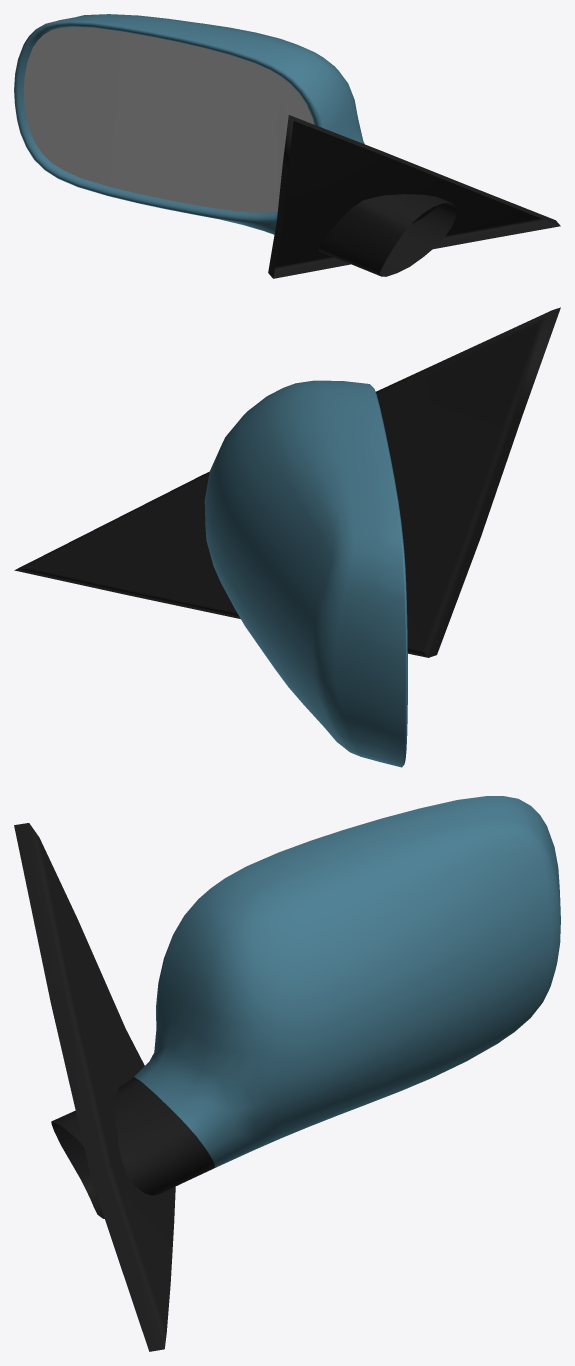
3 renders of one model, top to bottom at view 1: azimuth 30°, elevation 25°; view 2: azimuth 150°, elevation 25°; view 3: azimuth 270°, elevation 25°, orthographic. The views are drawn at different scales.
Parts seen in each view (by area): view 1: Y175_18_261I_L_Y175_18_261I_L_3_DTaSI, Y175_18_261I_L_Y175_18_261I_L_2_D, Y175_18_261I_L_1_DaS_Y175_18_261I_L; view 2: Y175_18_261I_L_1_DaS_Y175_18_261I_L, Y175_18_261I_L_Y175_18_261I_L_2_D; view 3: Y175_18_261I_L_1_DaS_Y175_18_261I_L, Y175_18_261I_L_Y175_18_261I_L_2_D.
Boxes of the visible parts, bbox=[...] form: Y175_18_261I_L_Y175_18_261I_L_3_DTaSI: bbox=[23, 26, 313, 212]; Y175_18_261I_L_Y175_18_261I_L_2_D: bbox=[268, 115, 560, 278]; Y175_18_261I_L_1_DaS_Y175_18_261I_L: bbox=[14, 14, 364, 234]; Y175_18_261I_L_1_DaS_Y175_18_261I_L: bbox=[204, 380, 407, 767]; Y175_18_261I_L_Y175_18_261I_L_2_D: bbox=[14, 307, 560, 657]; Y175_18_261I_L_1_DaS_Y175_18_261I_L: bbox=[134, 796, 560, 1167]; Y175_18_261I_L_Y175_18_261I_L_2_D: bbox=[14, 823, 214, 1351].
Bounding box in the file's own units: 32.48 × 16.87 × 26.87.
